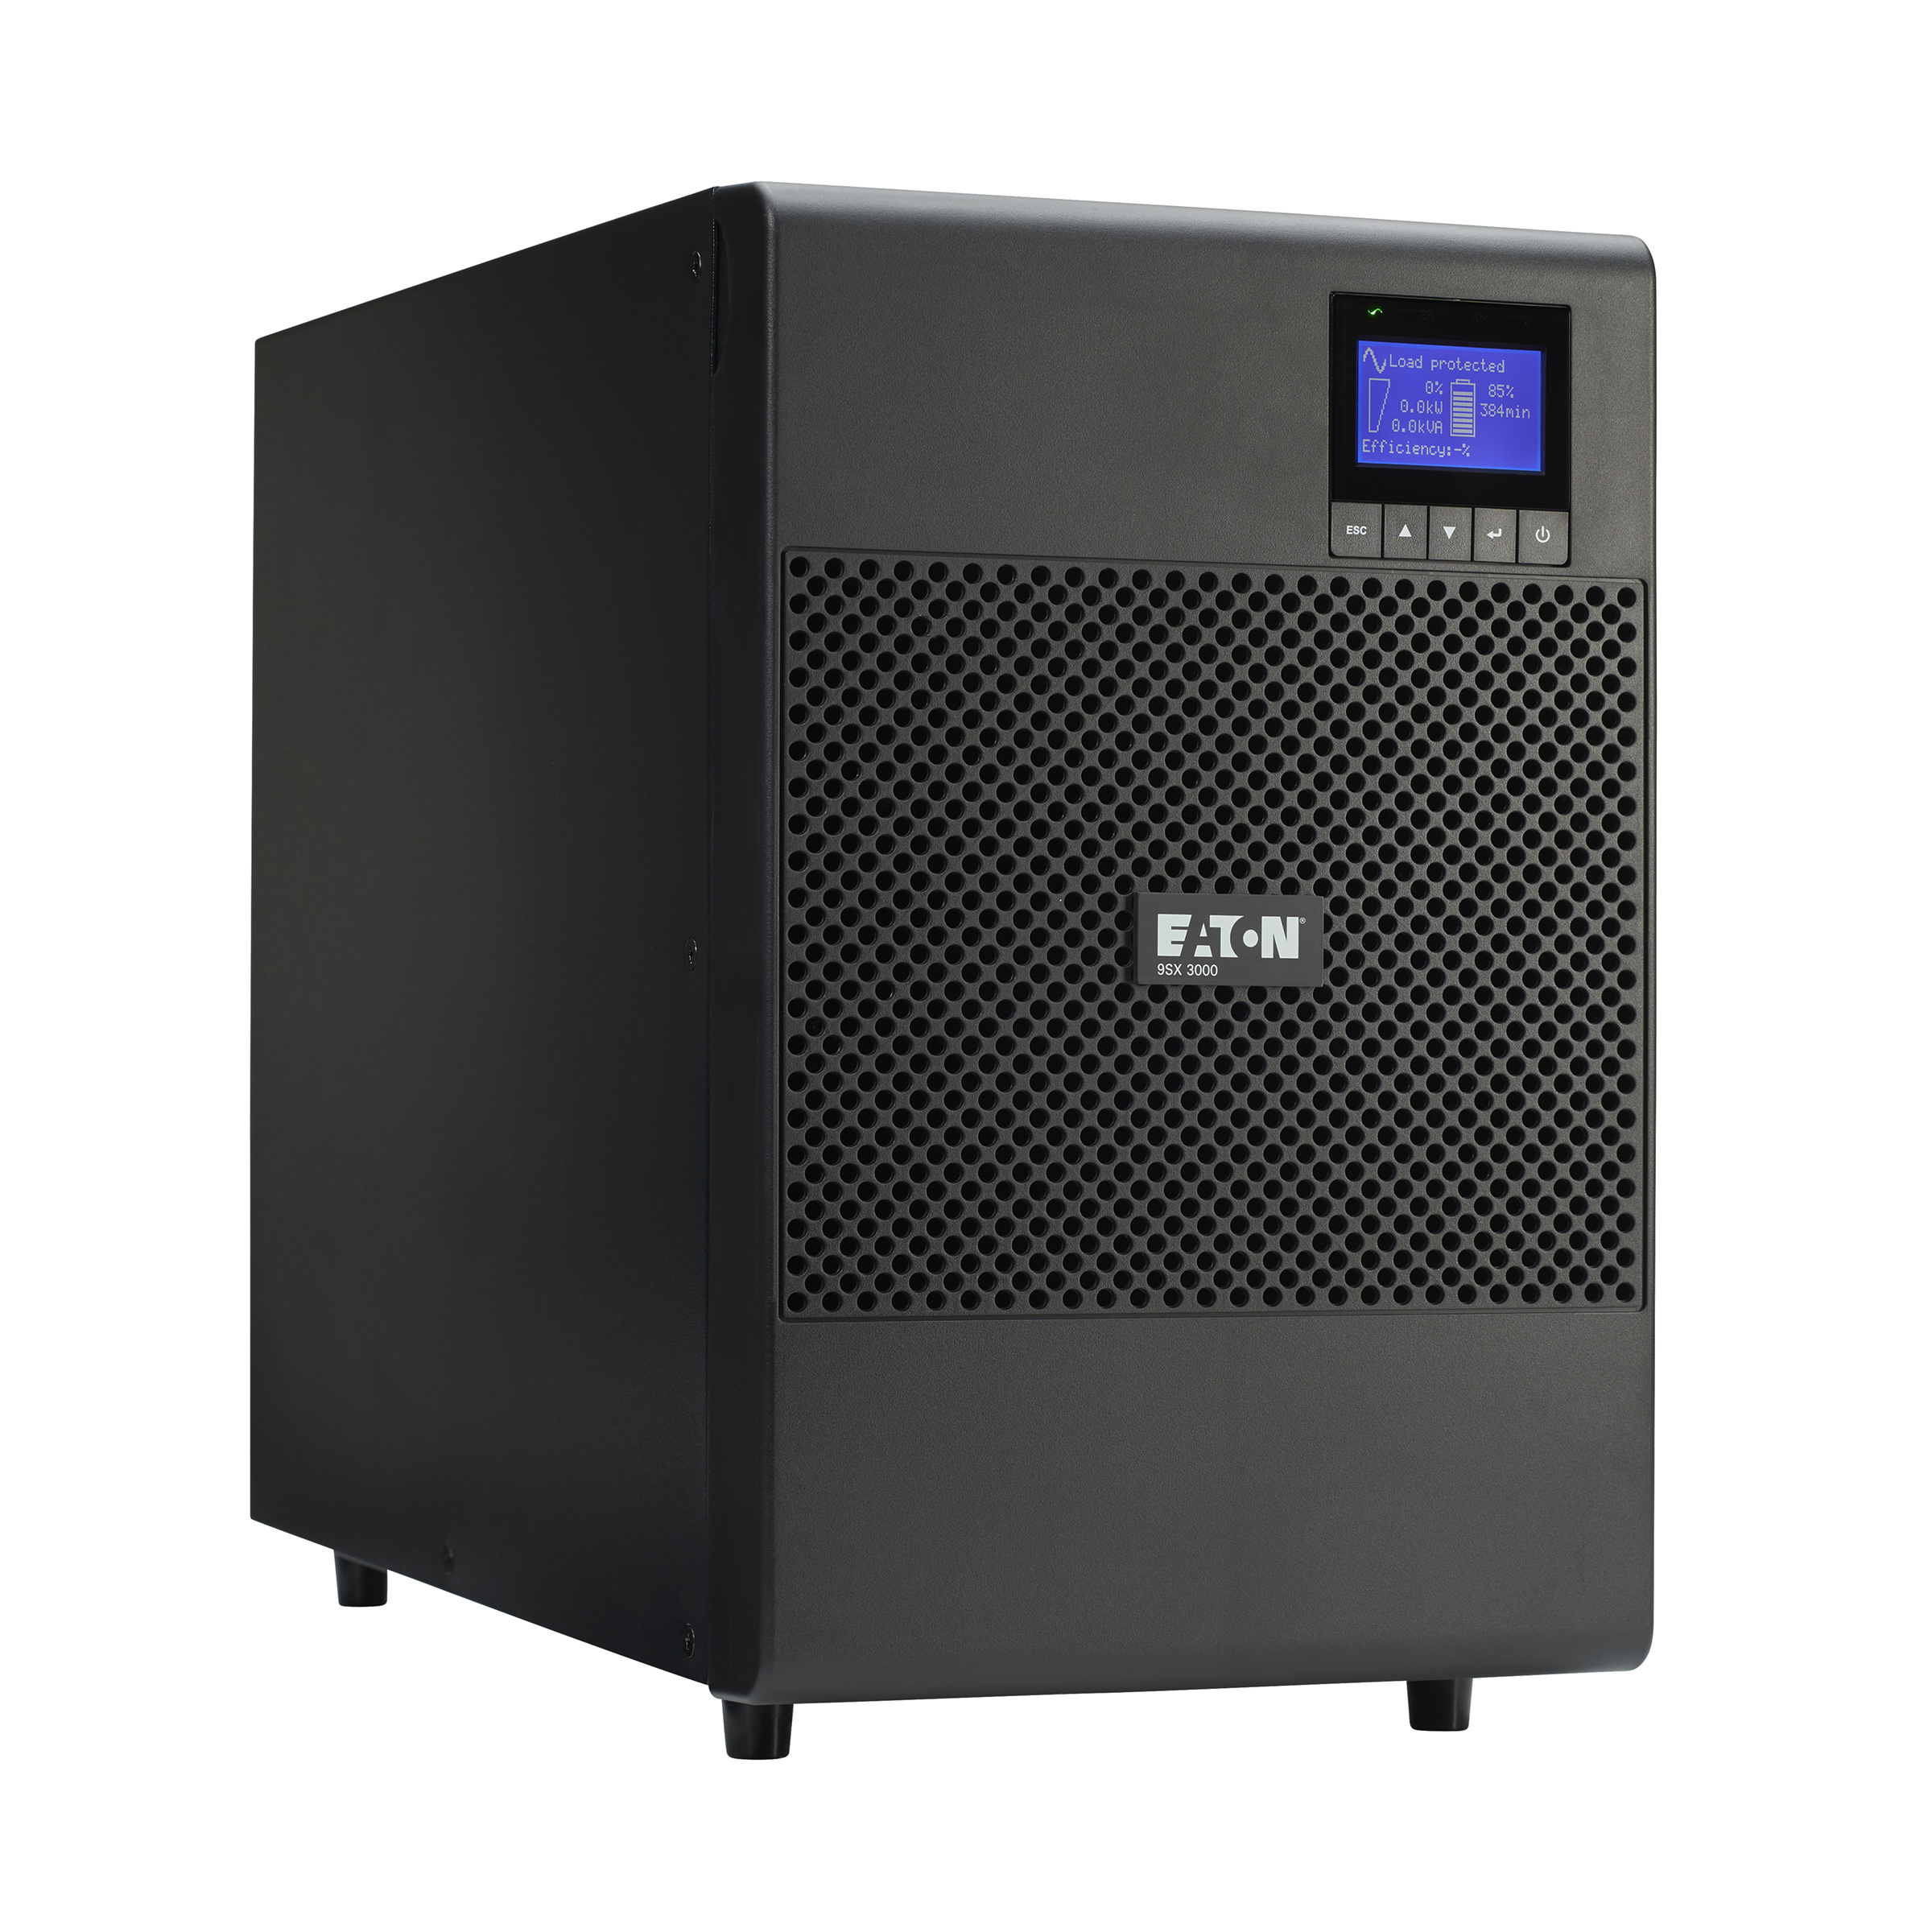UPS: (147, 140, 1727, 1783)
